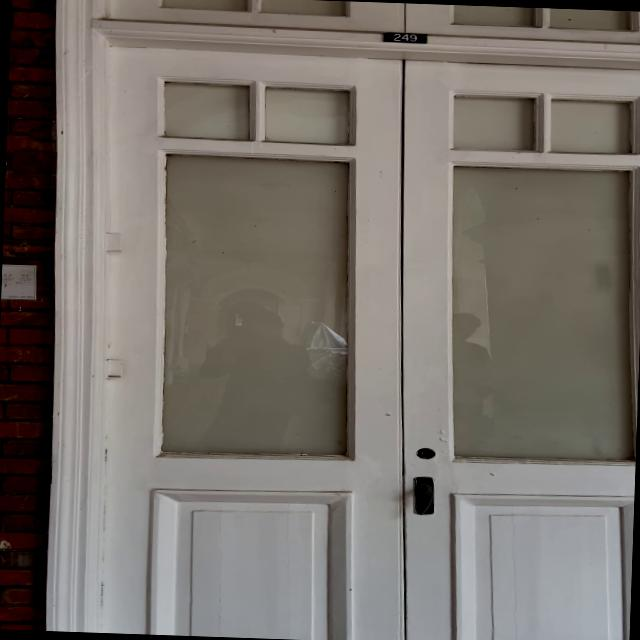room249: (374, 27, 434, 47)
